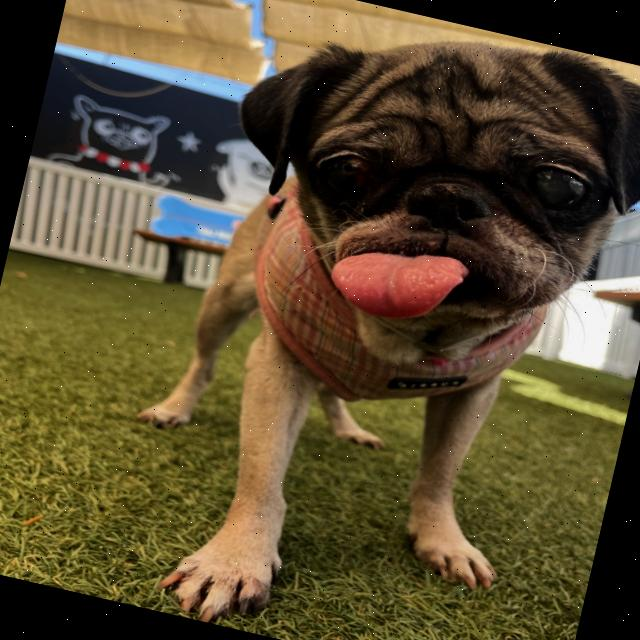pug_dog: (186, 0, 640, 399)
